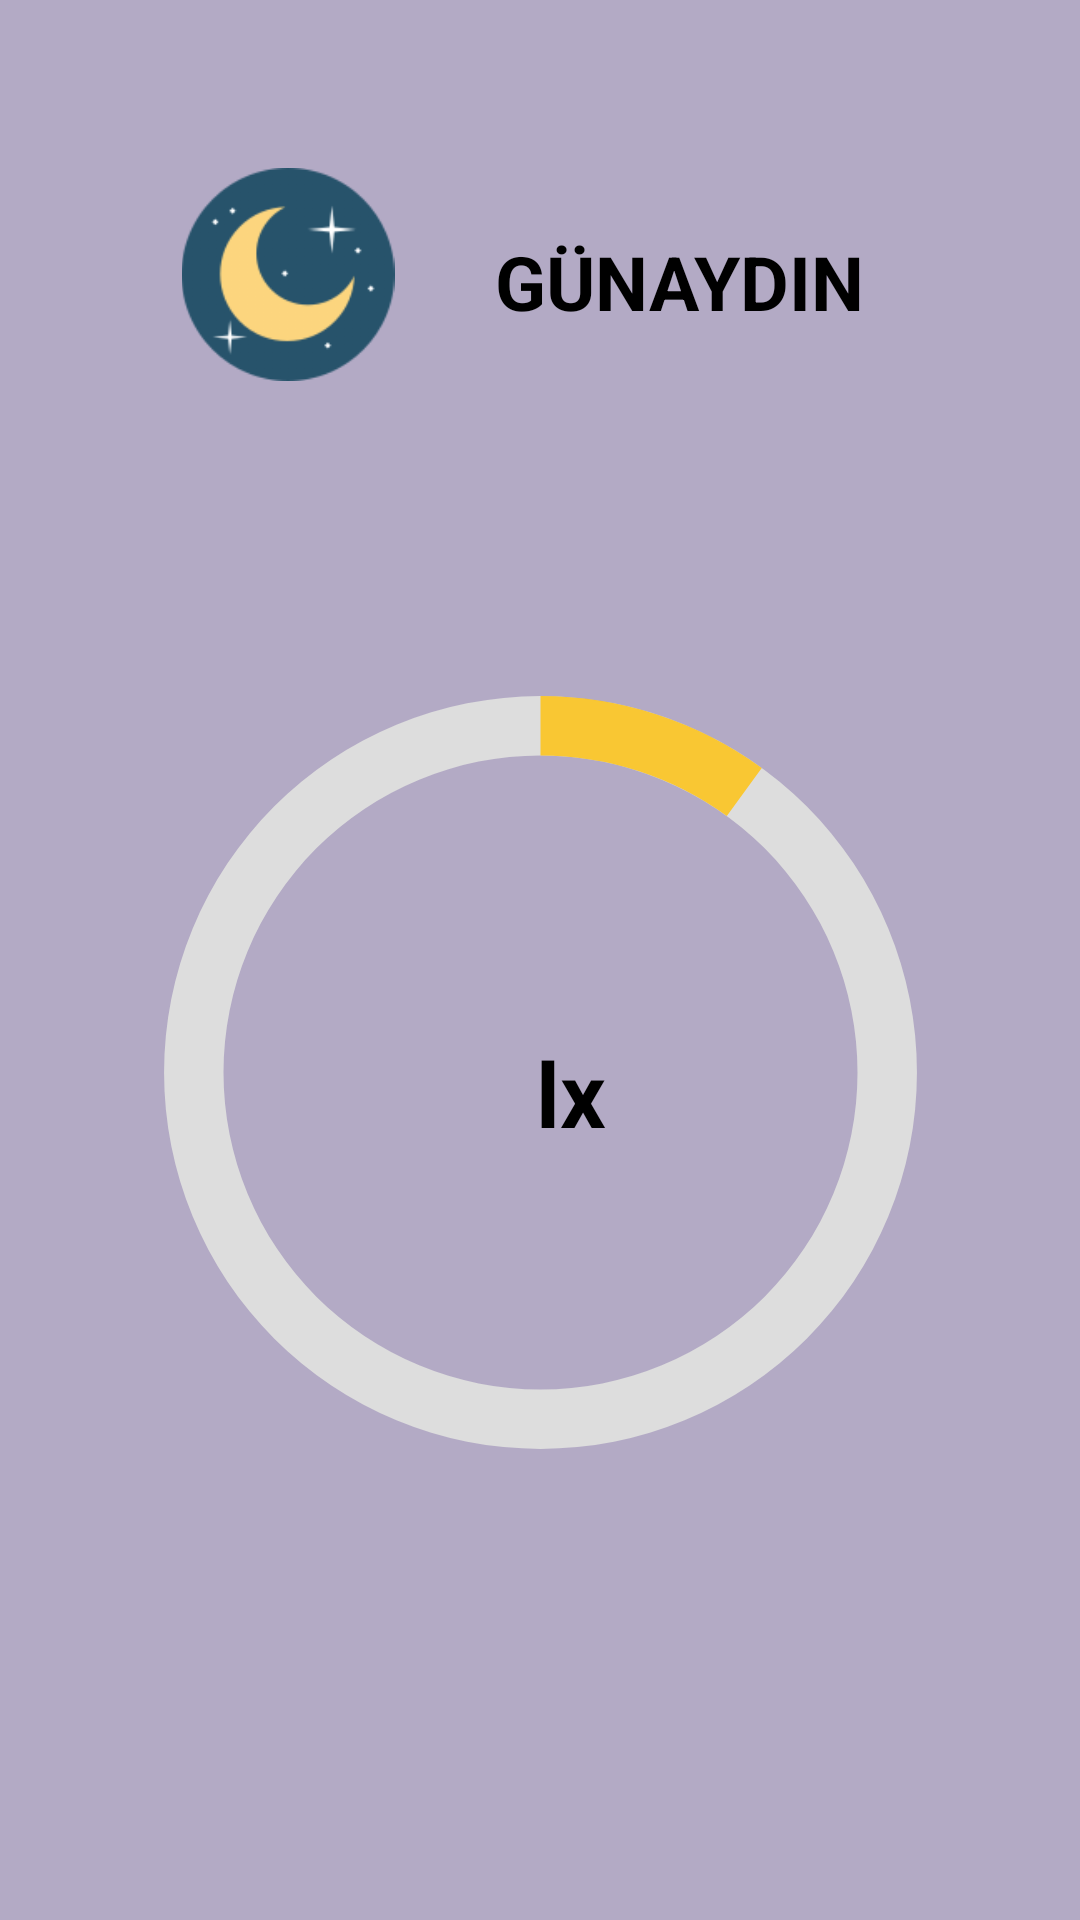

Point at icon controls on the screen. Image size 1080w x 1920h, points as (x,y).
aksam: (288,274)
